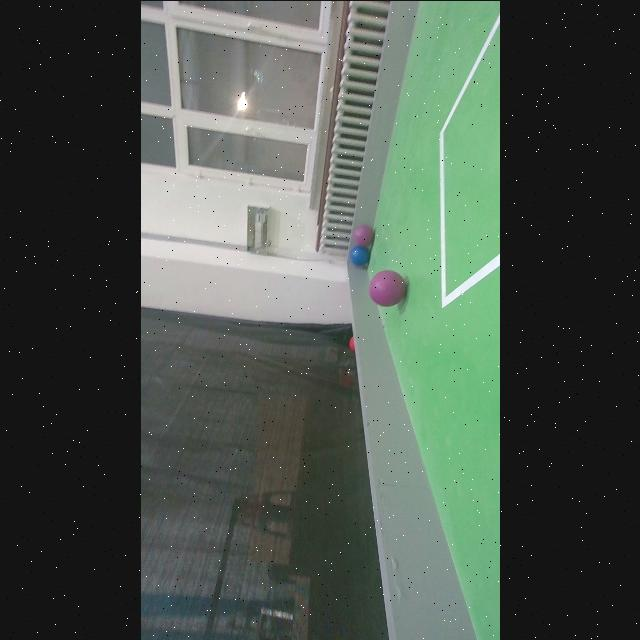B: (348, 244, 369, 266)
P: (368, 270, 406, 306), (352, 223, 373, 244)
